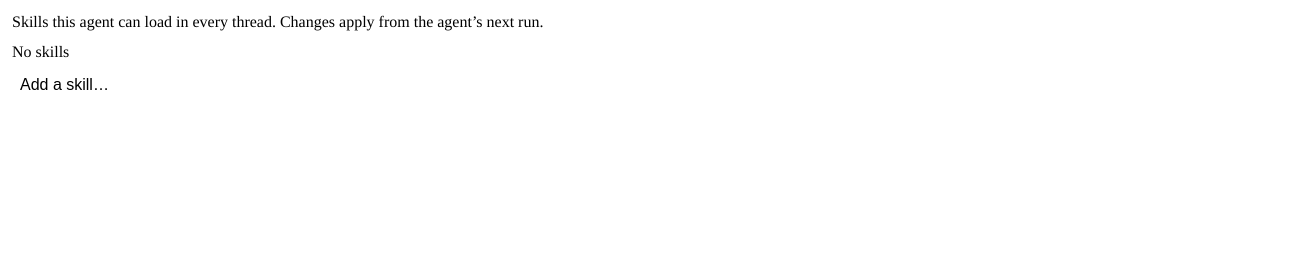
Test case: AgentSkillsSection › closes on Escape without leaving the box
Click the dropdown named "Add to Agent skills" at coordinates (652, 85), box [12,71,1292,99]
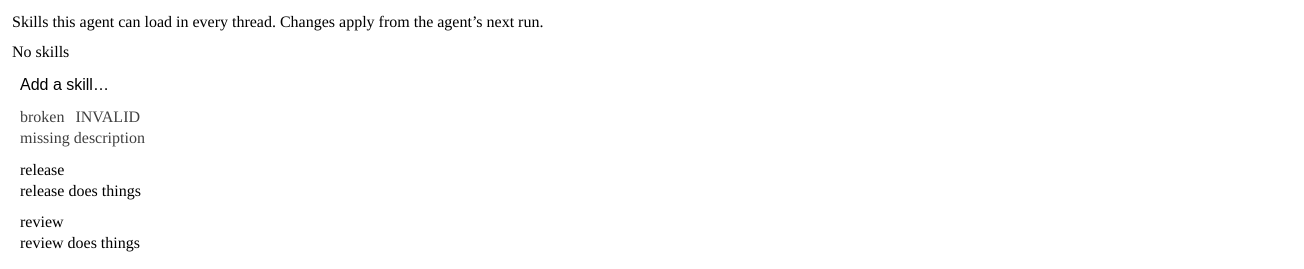
Expected: the list is shown, [20,109,145,252]
Press Escape in the dropdown named "Add to Agent skills", box [12,71,1292,99]
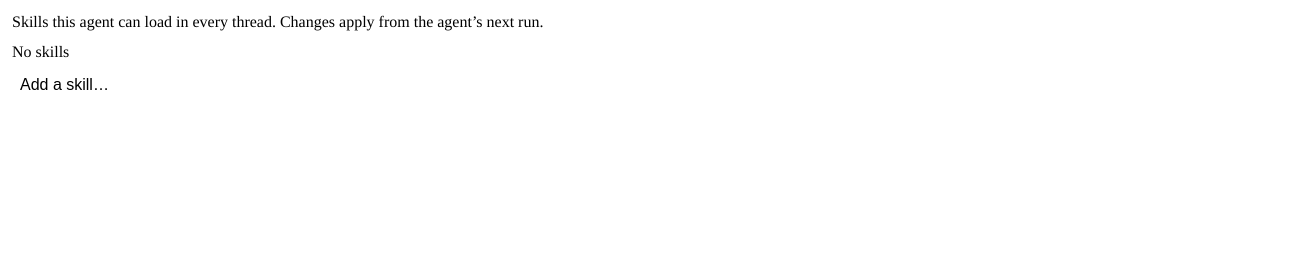
Expected: the list is gone
Press ArrowDown in the dropdown named "Add to Agent skills", box [12,71,1292,99]
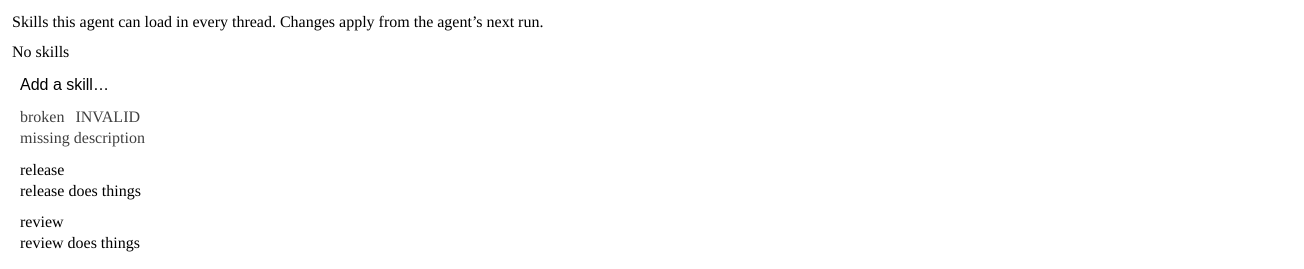
Expected: the list is shown, [20,109,145,252]
